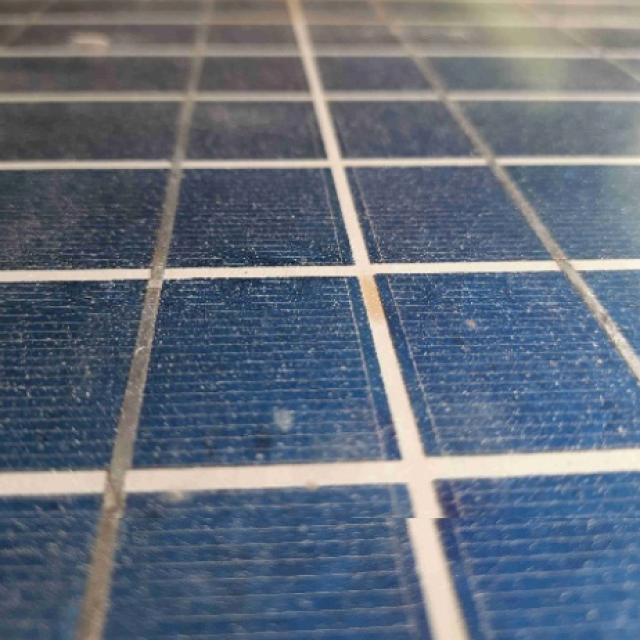Dirty: (0, 0, 640, 518)
